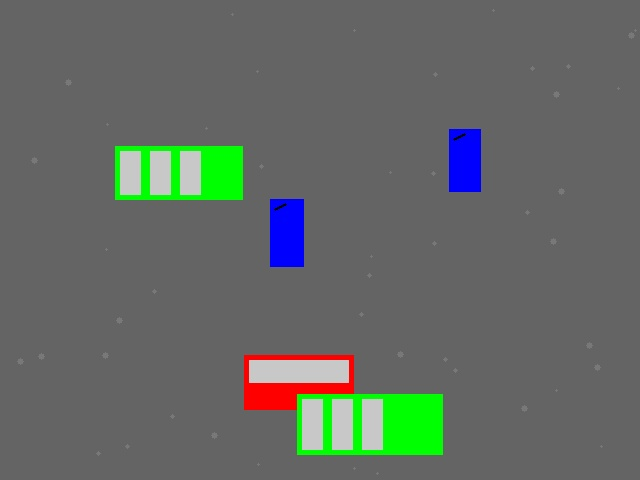bus: (297, 394, 442, 454), (115, 146, 242, 199)
car: (244, 355, 353, 409)
motorcycle: (270, 199, 303, 266), (449, 129, 480, 191)
